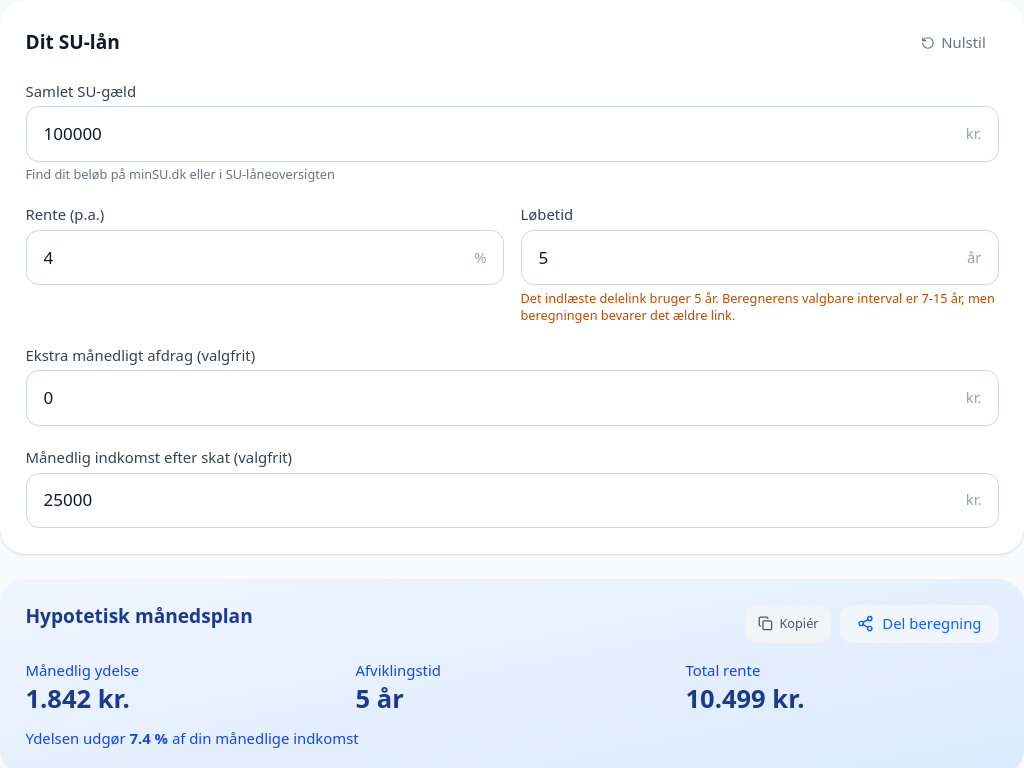
Test: StudielaanBeregner › rydder delelinket fra URL ved nulstilling
The width and height of the screenshot is (1024, 768).
Expected: the number field labelled "Samlet SU-gæld" holds "100000", [26,106,998,162]
Click the button "Nulstil". click: (953, 42)
box: [908,26,998,60]
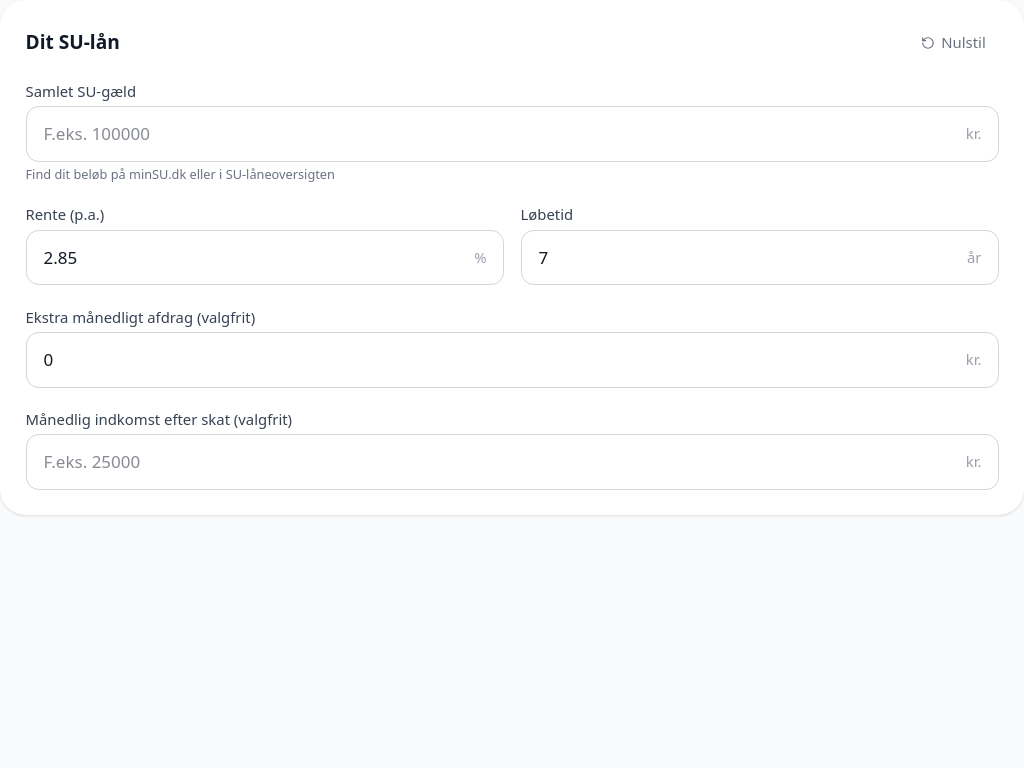
Now the number field labelled "Samlet SU-gæld" is not empty, box [26,106,998,162]
